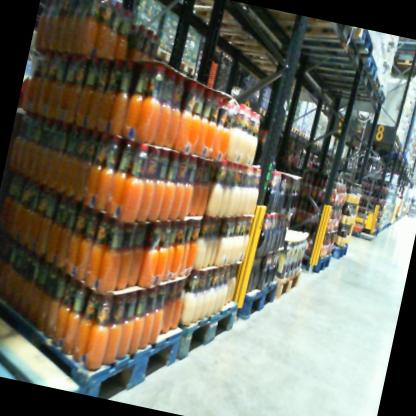pallet: (0, 264, 191, 409), (0, 276, 104, 392), (262, 10, 383, 70), (165, 281, 238, 370), (271, 34, 382, 90), (278, 51, 386, 101), (292, 69, 394, 118), (260, 8, 363, 55), (171, 0, 264, 39), (229, 271, 282, 333), (290, 242, 335, 278), (268, 262, 305, 305), (221, 27, 275, 55), (153, 43, 178, 72), (388, 50, 416, 73), (325, 236, 350, 261), (177, 56, 201, 77), (255, 105, 275, 119), (298, 129, 307, 140), (289, 124, 298, 134), (293, 127, 302, 136), (303, 132, 311, 142)
